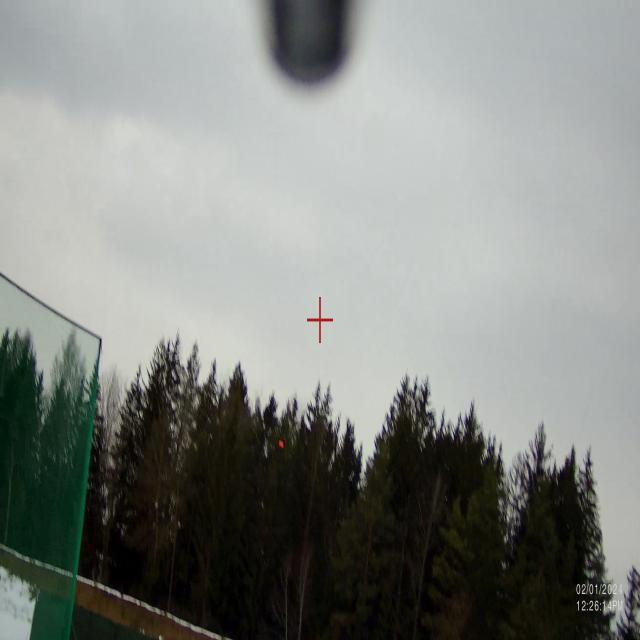entire: (275, 433, 289, 451)
